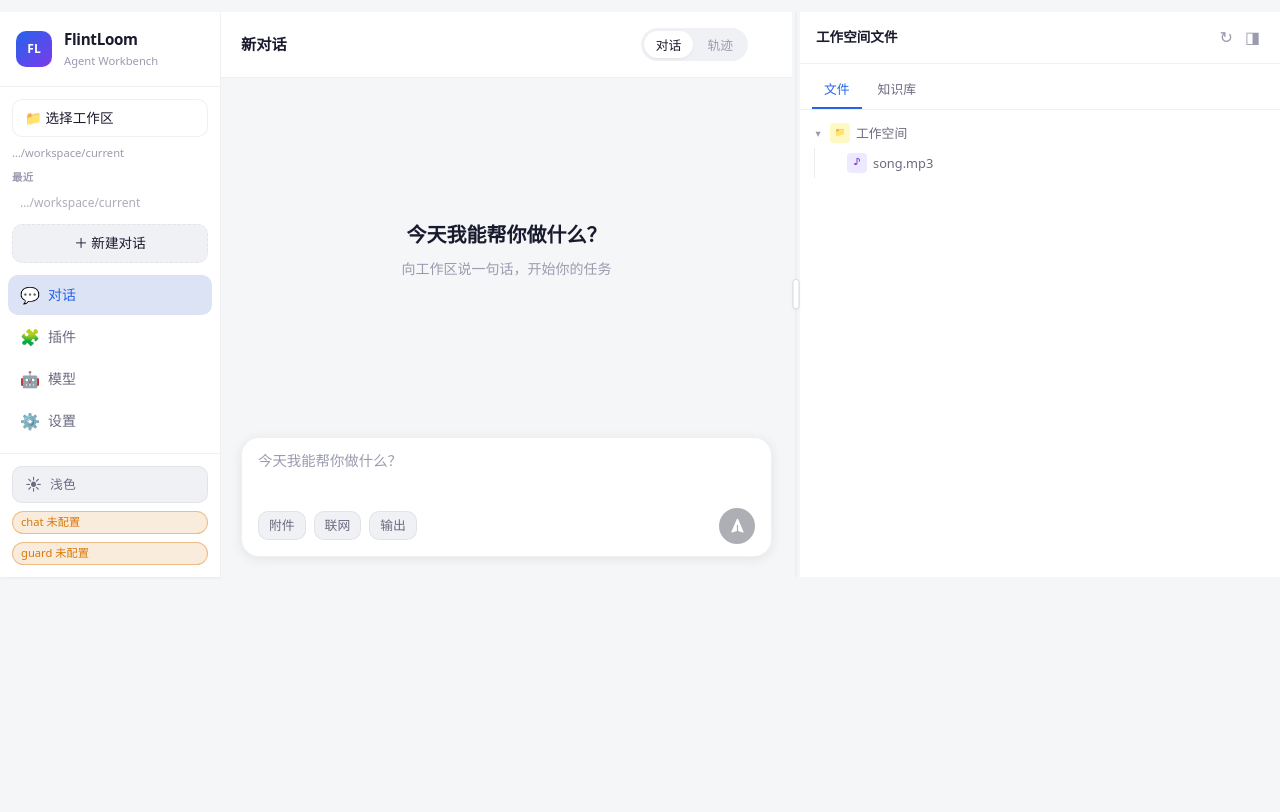
Test: App › renders audio files with a playable audio element
The image size is (1280, 812).
Click the list item with class "file-label". click: click(903, 163)
box: top-left (821, 148), bottom-right (1276, 178)
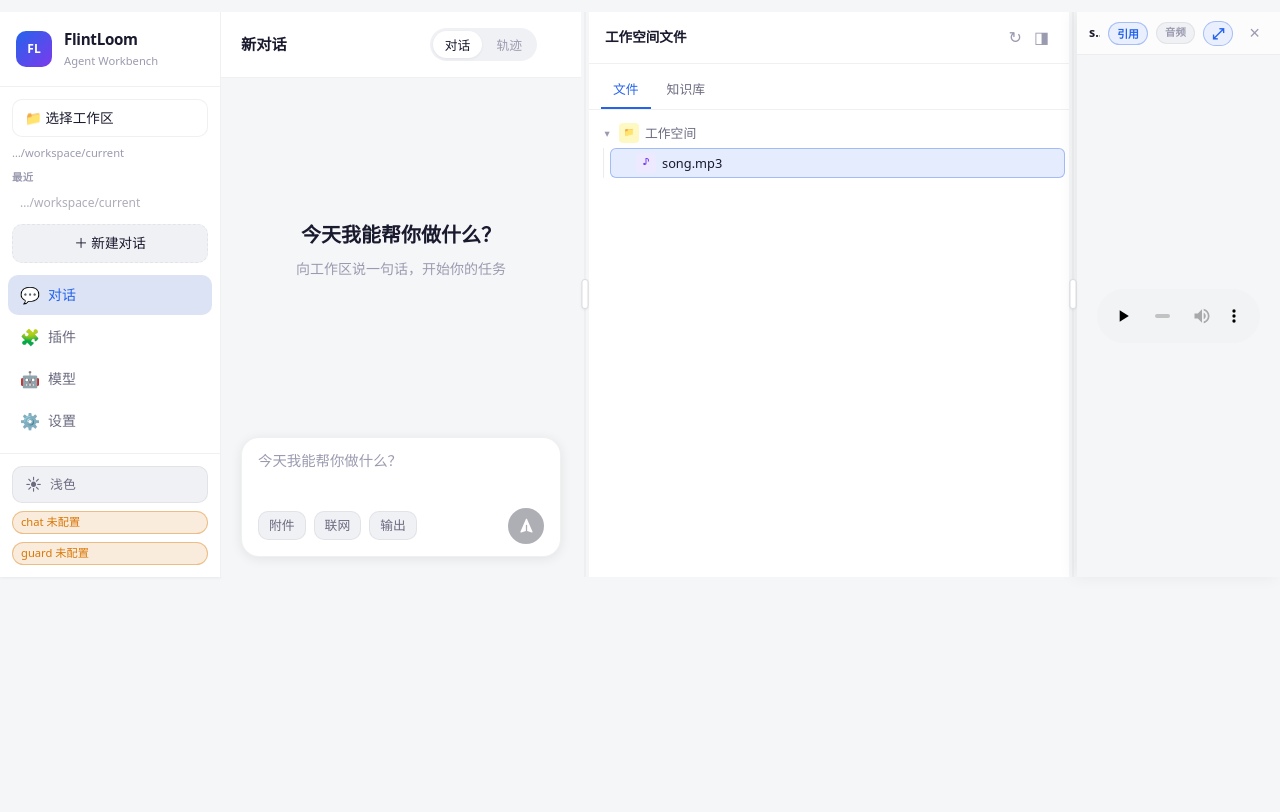
Expected: the element with class "file-preview-audio" is shown, top-left (1097, 289), bottom-right (1260, 343)
Expected: the text "音频" is shown, top-left (1156, 22), bottom-right (1195, 44)
